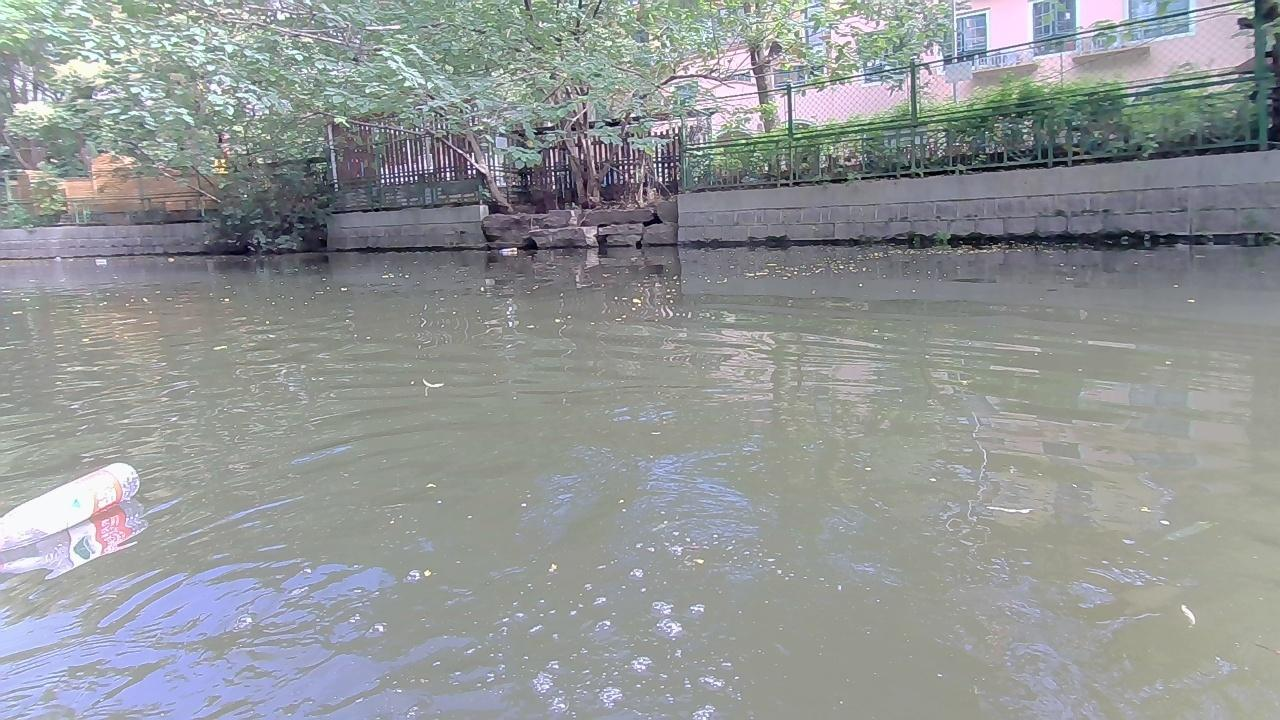bottle: (0, 466, 146, 540)
